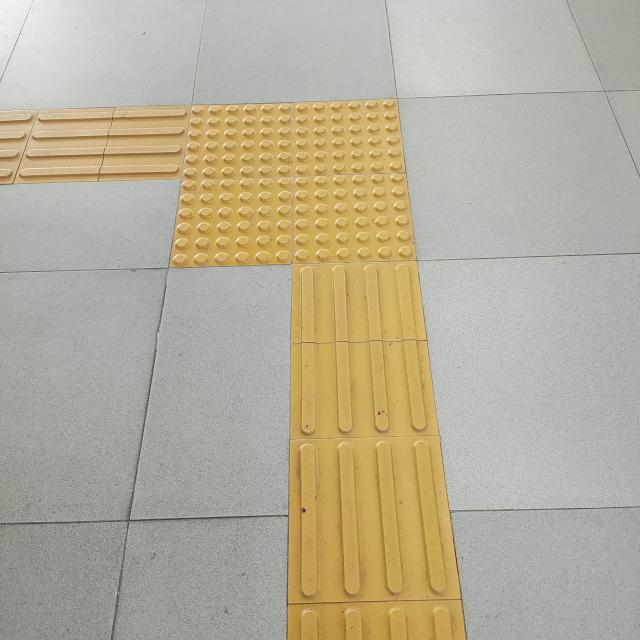kiri: (2, 68, 503, 330)
